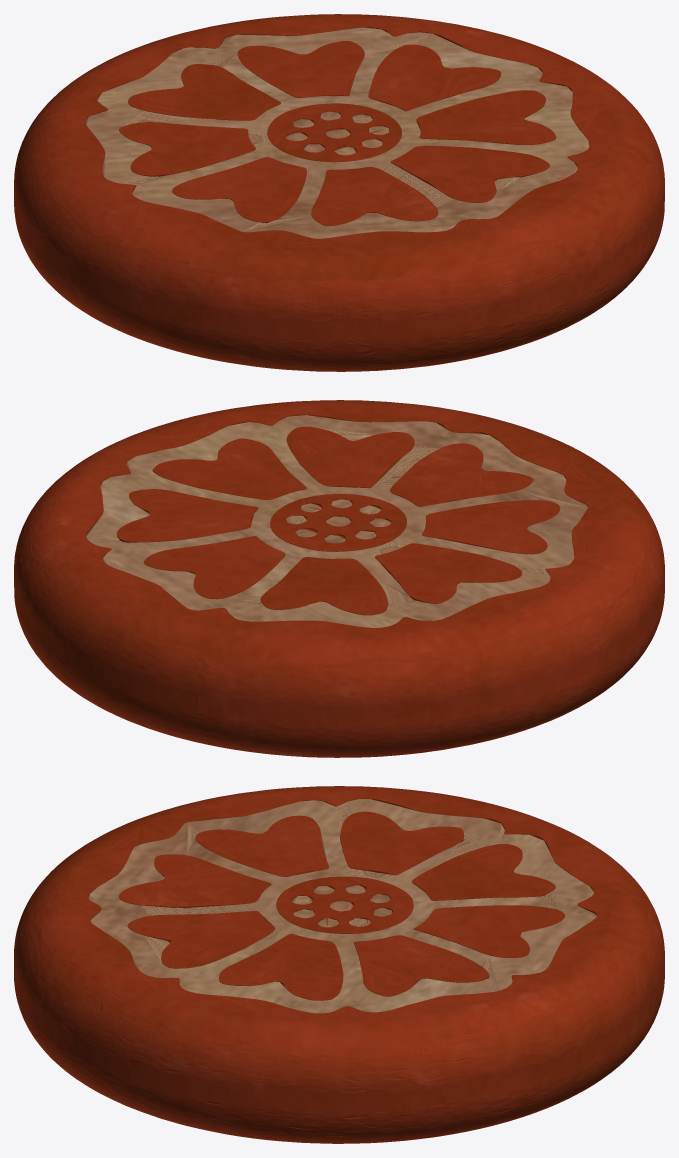
File: Tile_Lotus.glb
The picture shows the model from 3 angles, top to bottom: view 1: azimuth 30°, elevation 25°; view 2: azimuth 150°, elevation 25°; view 3: azimuth 270°, elevation 25°; orthographic projection.
Parts seen in each view (by area): view 1: Tile, Face; view 2: Tile, Face; view 3: Tile, Face.
Boxes of the visible parts, <box> form: Tile: <box>14,14,664,371</box>; Face: <box>85,27,589,238</box>; Tile: <box>14,400,664,757</box>; Face: <box>86,415,588,627</box>; Tile: <box>14,786,664,1143</box>; Face: <box>89,799,596,1013</box>.
Bounding box in the file's own units: 2 × 0.4008 × 2.
2 materials, 2 textured.
